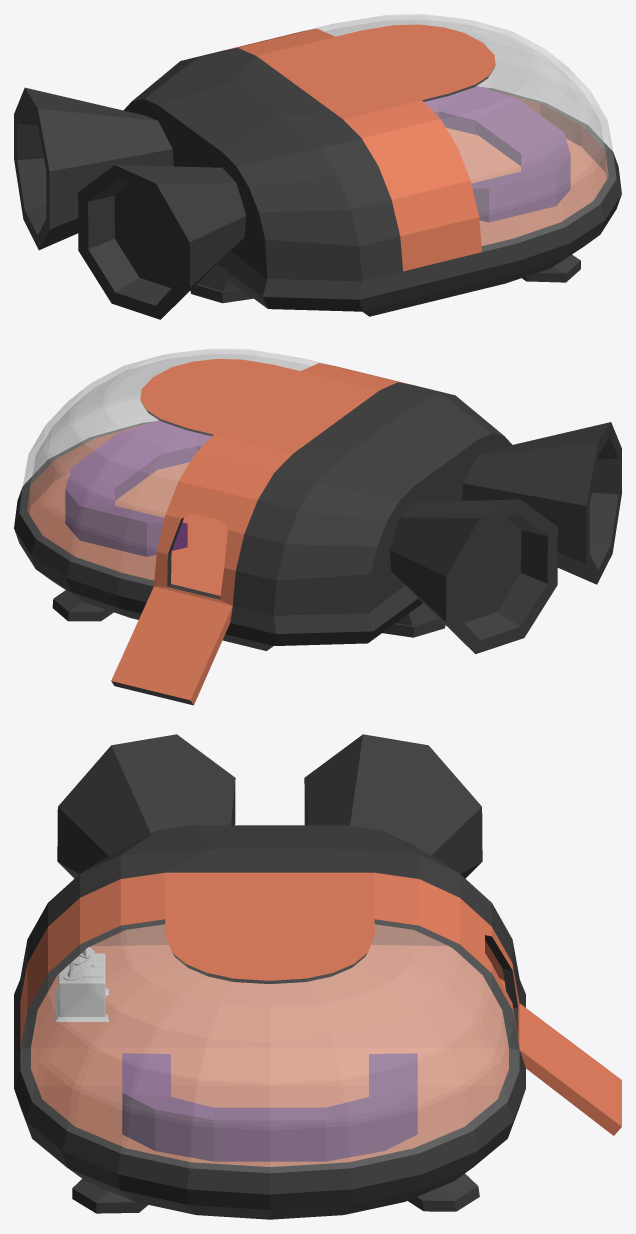
File: Ship.glb
3 renders of one model, top to bottom at view 1: azimuth 30°, elevation 25°; view 2: azimuth 150°, elevation 25°; view 3: azimuth 270°, elevation 25°, orthographic. The views are drawn at different scales.
Visible parts, largest first — view 1: vaisseau, controlpanel; view 2: vaisseau, controlpanel; view 3: vaisseau, controlpanel, ScienceTable.
Part boxes in pixels (x1,y1,x2,y2): vaisseau: [14, 14, 621, 319]; controlpanel: [424, 86, 570, 222]; vaisseau: [14, 348, 621, 705]; controlpanel: [65, 420, 211, 556]; vaisseau: [14, 734, 621, 1219]; controlpanel: [122, 1053, 417, 1161]; ScienceTable: [54, 953, 108, 1021].
Size of the model in its own units: 15.89 by 5.32 by 13.07.
